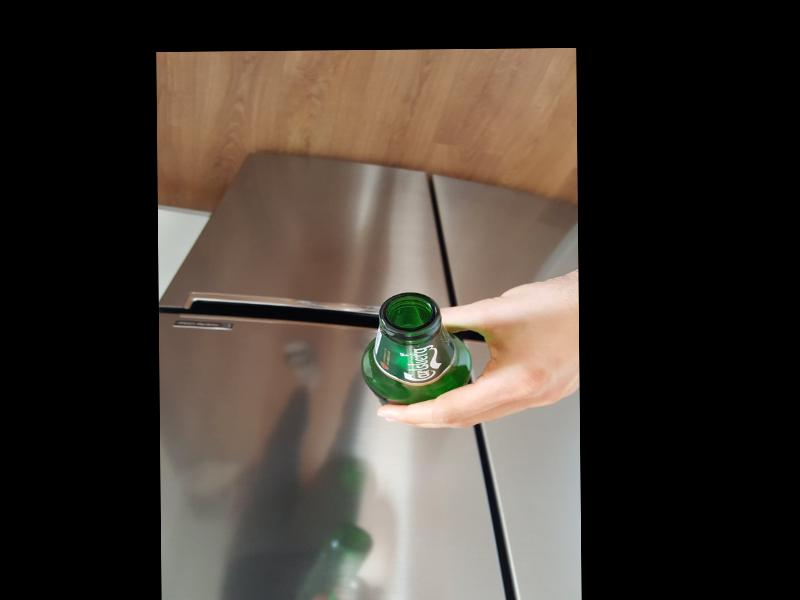Beer: (361, 291, 469, 405)
